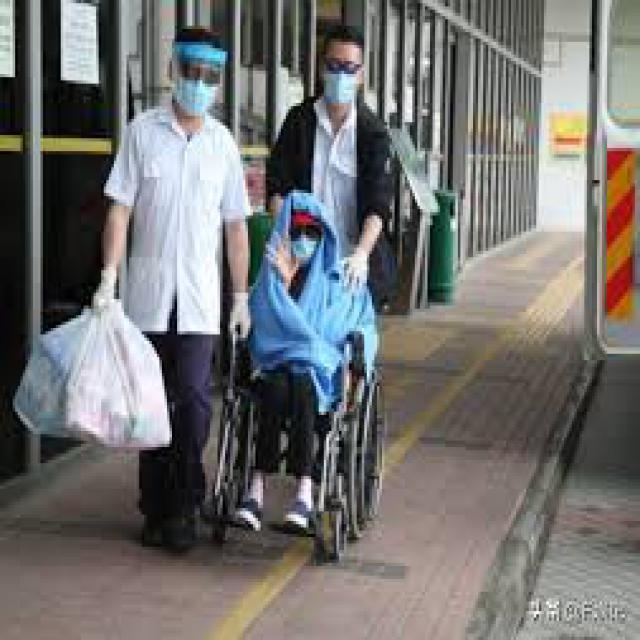wheelchairs: (202, 274, 392, 554)
